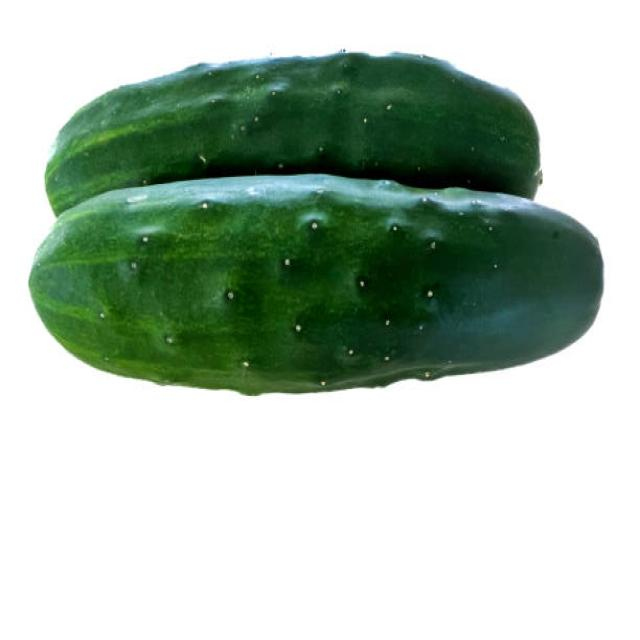cucumber: (29, 176, 604, 395), (44, 51, 543, 226)
